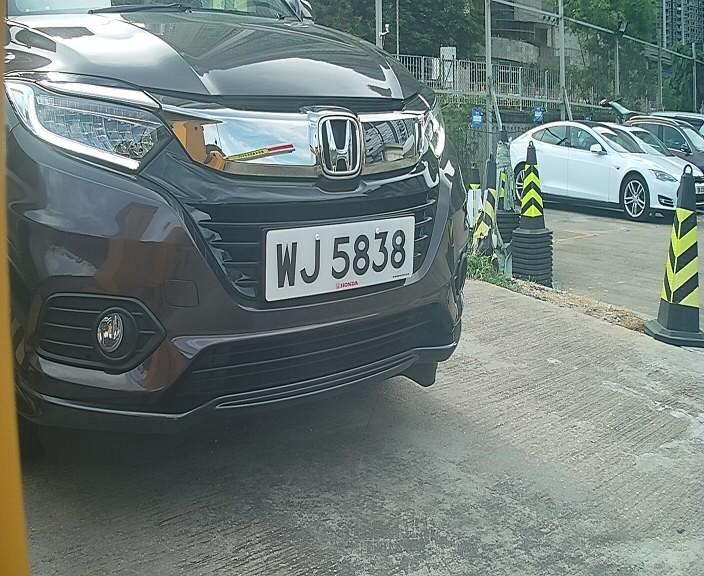privatecar: (4, 8, 510, 456)
